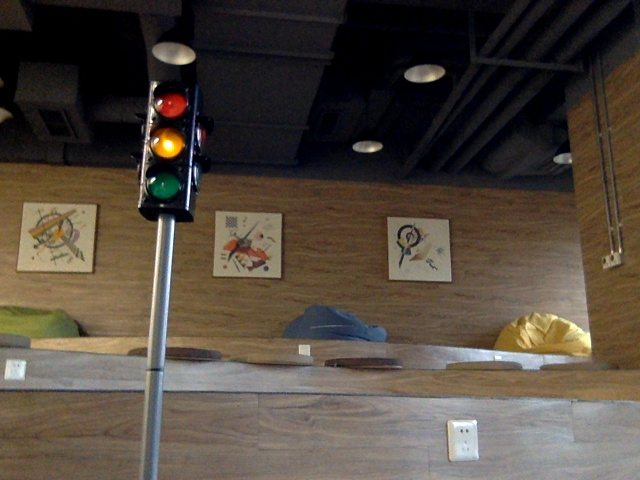yellow: (147, 86, 188, 208)
